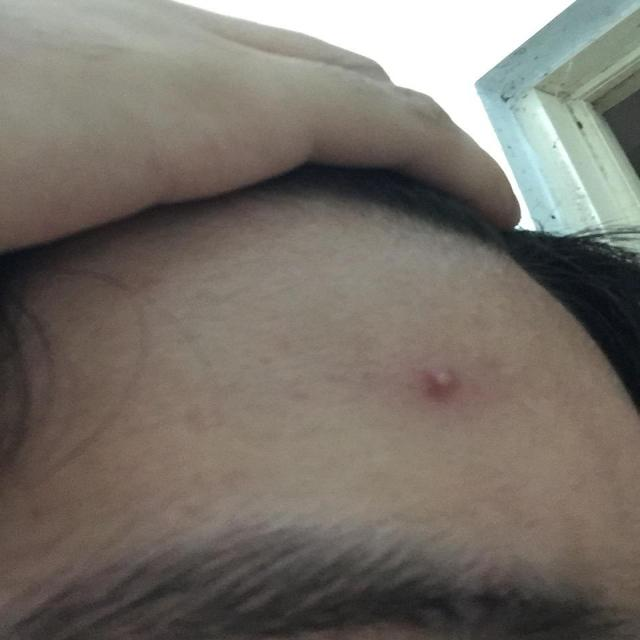blackheads: (417, 361, 463, 406)
